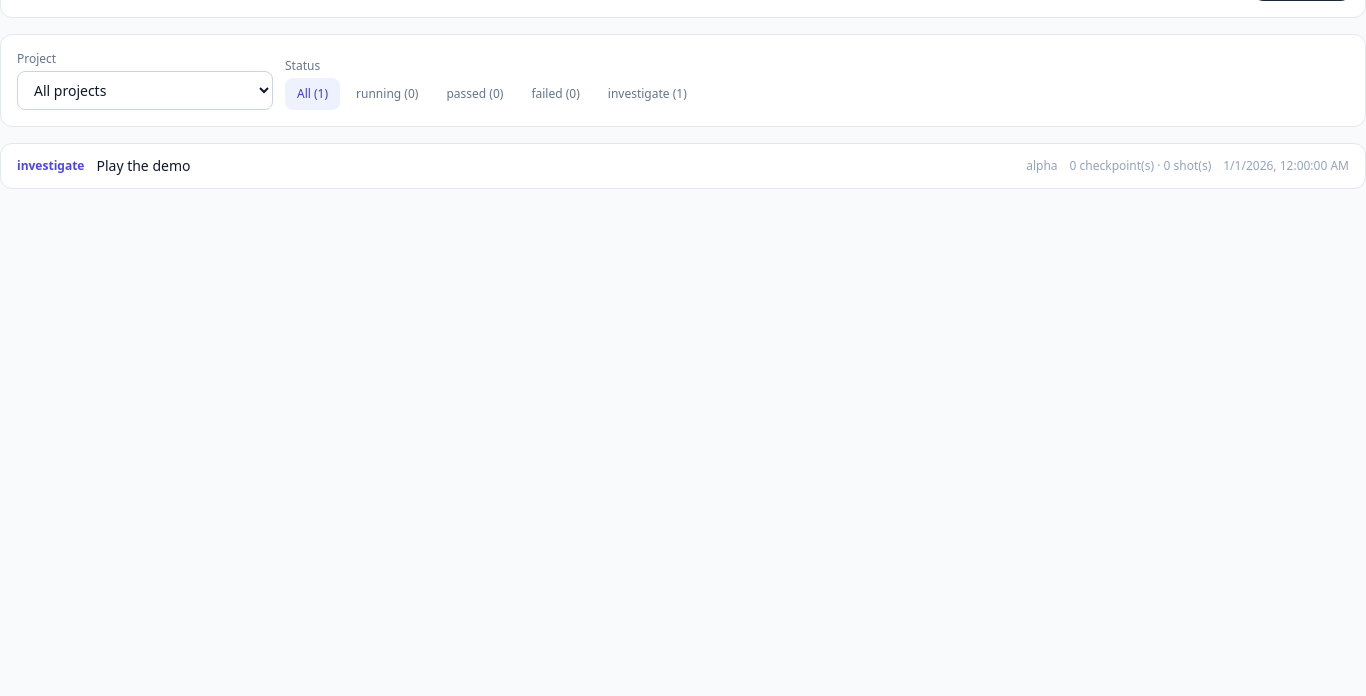
Test case: Sessions › runs the AI summary and shows provenance
The image size is (1366, 696).
Click the text "Play the demo": (144, 166) [96,156,190,175]
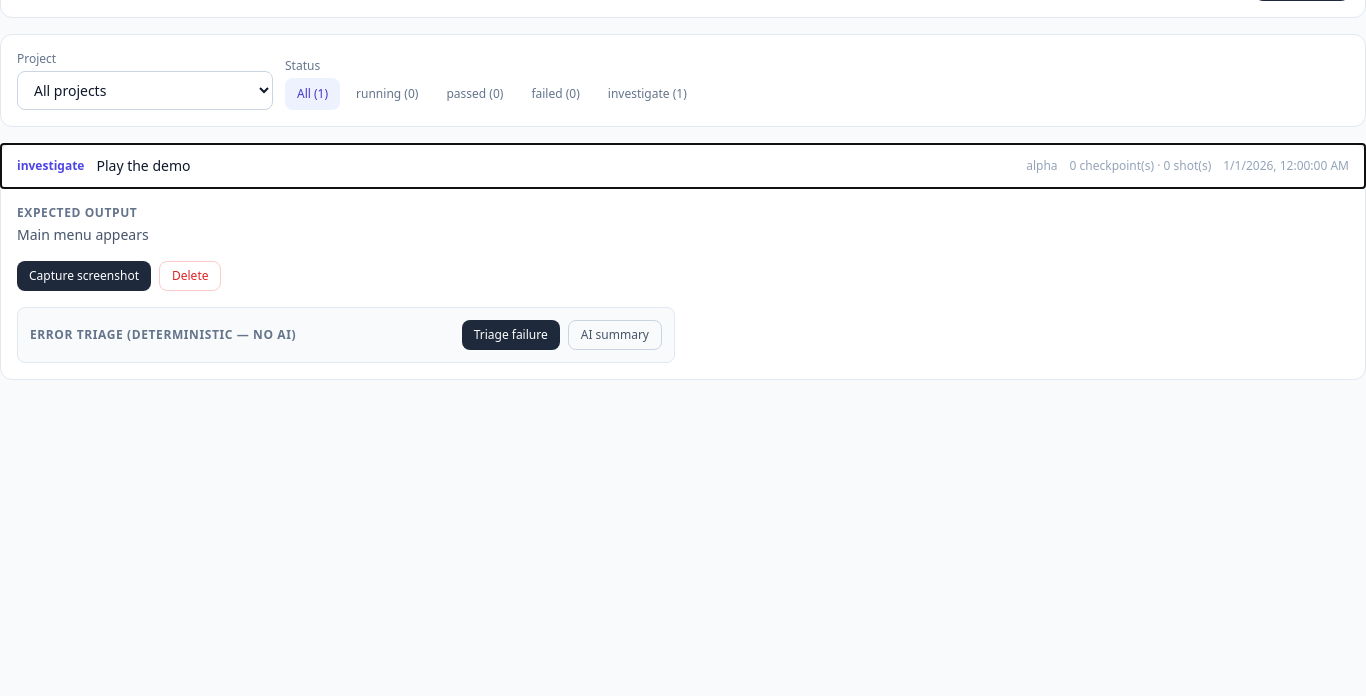
Click the button "AI summary": (615, 335) [568,320,662,350]
(page scrolled)
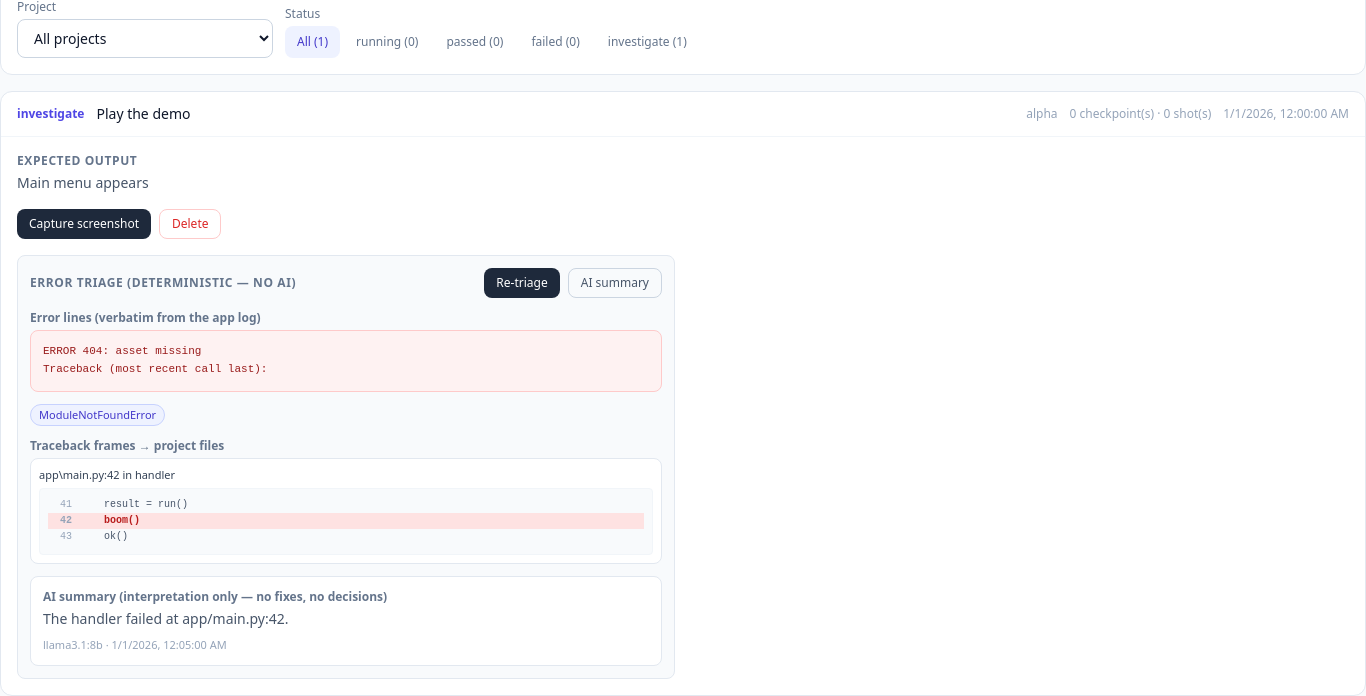
Result: the text "The handler failed at app/main.py:42." is shown at [43,608,288,628]
Result: the text "llama3.1:8b · 1/1/2026, 12:05:00 AM" is shown at [43,636,227,652]
